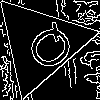Q: (15, 19, 80, 80)
